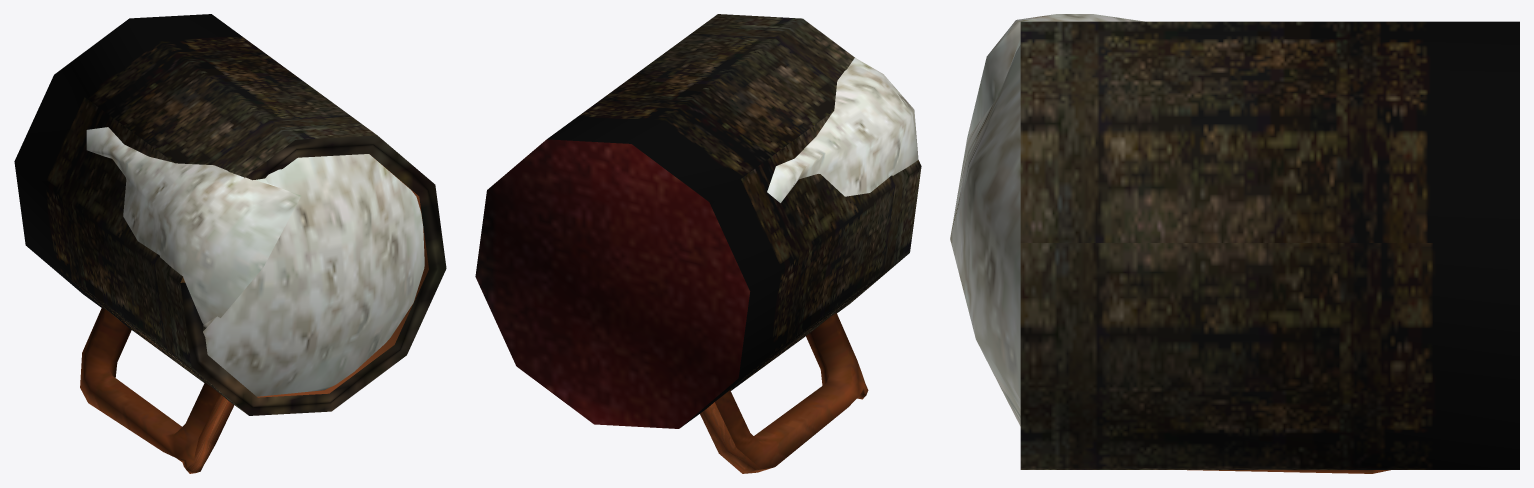
File: ItFo_Beer-fbx.fbx
The picture shows the model from 3 angles, left to right: view 1: azimuth 30°, elevation 25°; view 2: azimuth 150°, elevation 25°; view 3: azimuth 270°, elevation 25°; orthographic projection. The views are drawn at different scales.
Visible parts, largest first — view 1: 3DSMesh_0; view 2: 3DSMesh_0; view 3: 3DSMesh_0.
Boxes of the visible parts, x1,y1,x2,y2 form: 3DSMesh_0: [14, 14, 446, 473]; 3DSMesh_0: [475, 14, 921, 473]; 3DSMesh_0: [950, 14, 1519, 473].
Size of the model in its own units: 15.74 by 19.02 by 19.41.
